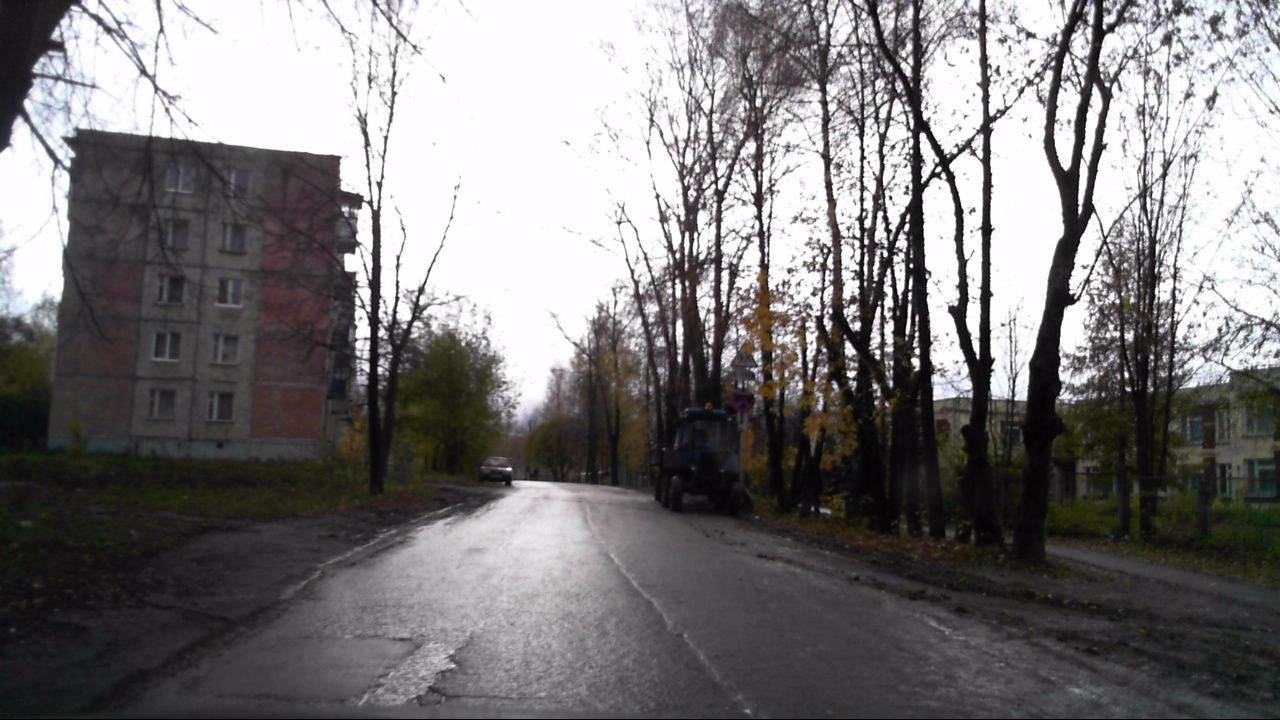No Parking: (729, 388, 756, 413)
